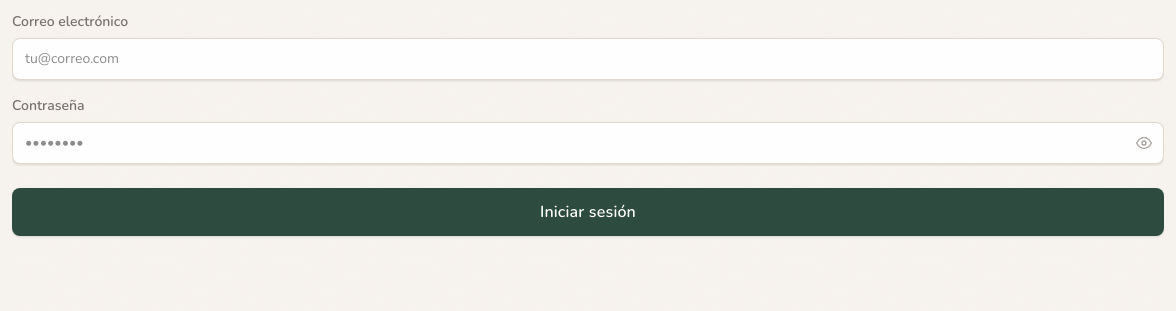
Test: LoginForm › muestra mensaje de error cuando signIn falla
The image size is (1176, 311).
In the field labelled "Correo electrónico": (588, 59) [12, 38, 1164, 80], type "mal@test.com"
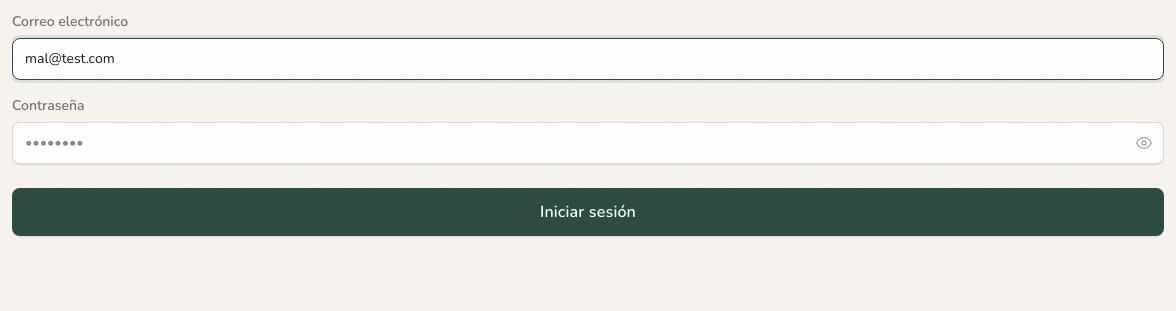
In the password field labelled "Contraseña": (588, 143) [12, 122, 1164, 164], type "wrongpass"
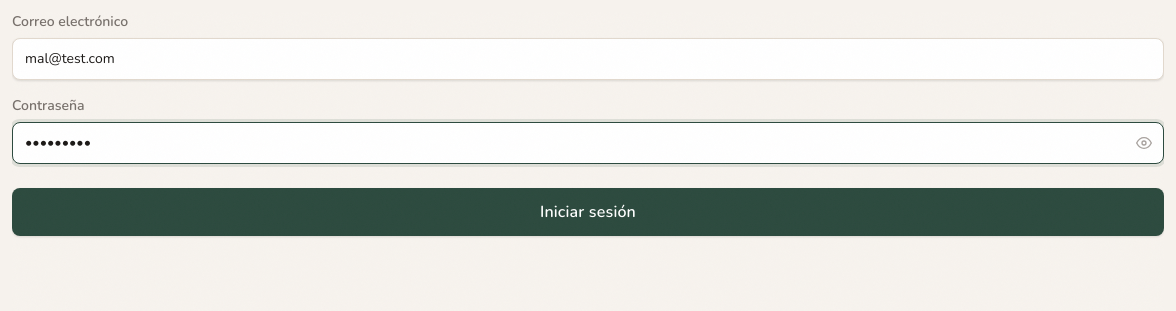
Click the button "Iniciar sesión": (588, 212) [12, 188, 1164, 236]
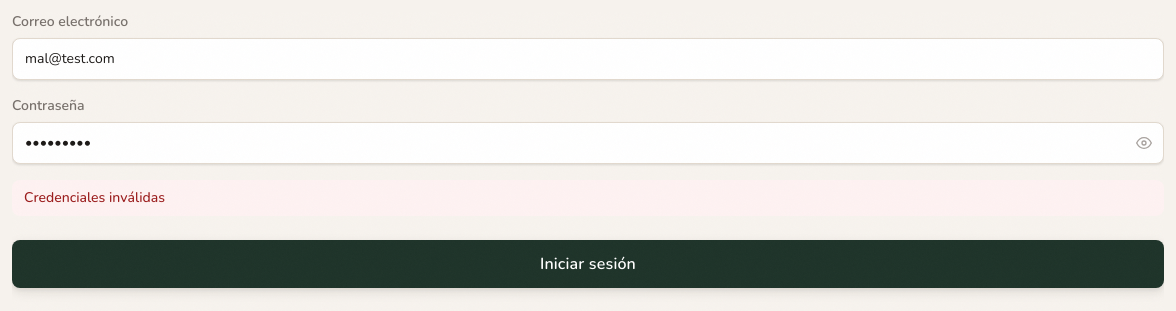
expect the text "Credenciales inválidas" is shown: met, box [12, 180, 1164, 216]
